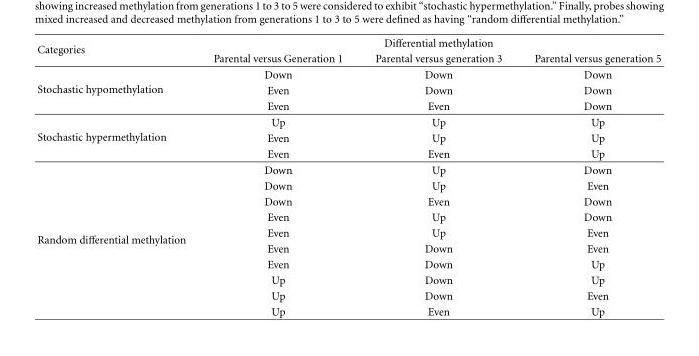table: (36, 36, 660, 317)
table column: (36, 36, 198, 317), (198, 36, 358, 317), (358, 36, 517, 317), (517, 36, 660, 317)
table column header: (36, 36, 660, 66)
table row: (36, 50, 660, 66), (36, 66, 660, 82), (36, 97, 660, 113), (36, 113, 660, 129), (36, 129, 660, 145), (36, 145, 660, 161), (36, 161, 660, 177), (36, 177, 660, 193), (36, 193, 660, 209), (36, 224, 660, 240), (36, 240, 660, 256), (36, 271, 660, 287), (36, 287, 660, 303), (36, 82, 660, 97), (36, 209, 660, 224), (36, 256, 660, 271), (36, 36, 660, 50), (36, 303, 660, 317)
table spanning cell: (36, 161, 198, 317), (36, 113, 198, 161), (36, 66, 198, 113), (198, 36, 660, 50), (36, 36, 198, 66)
